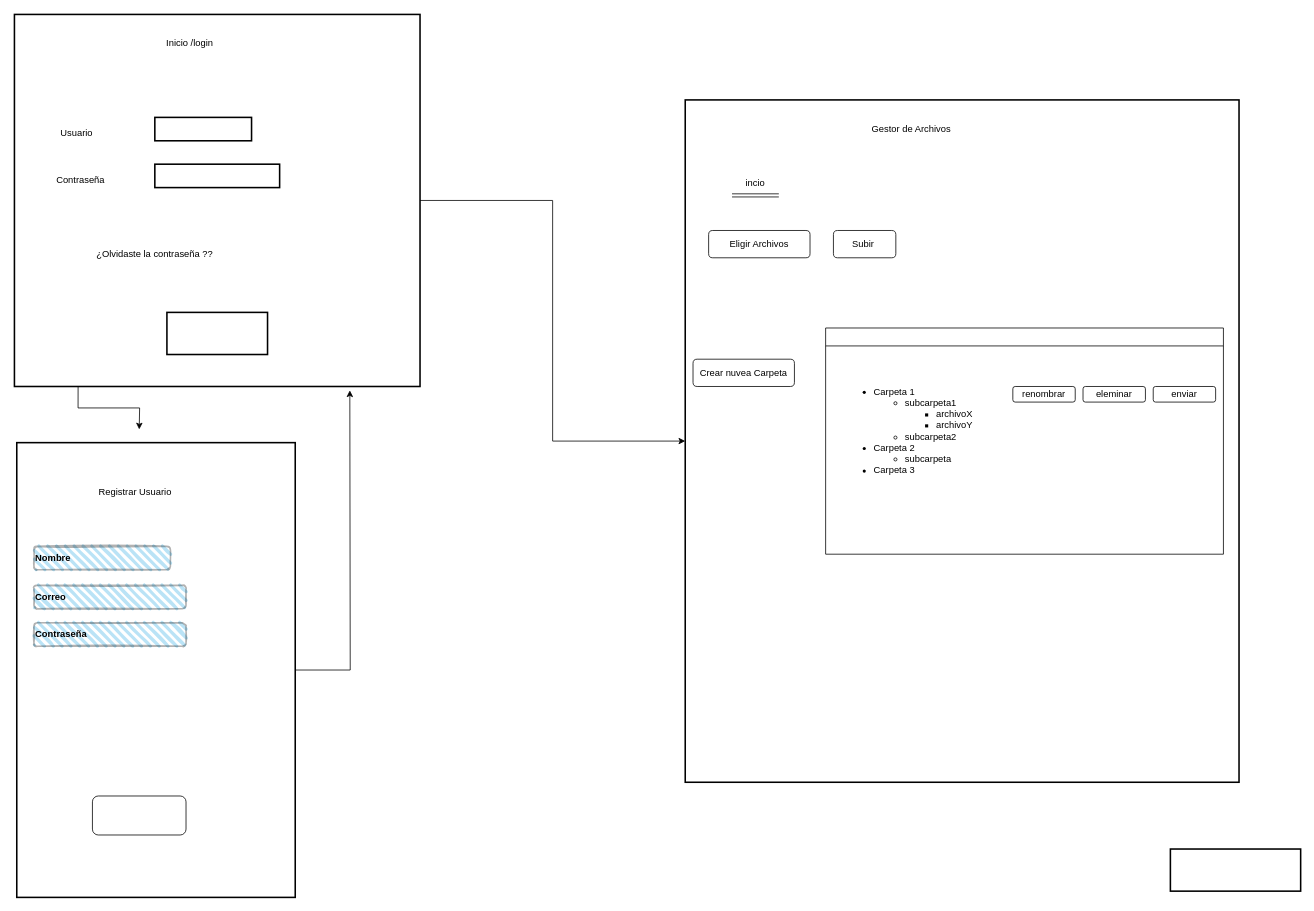
Image size: 1314x911. Some labels were removed from this diagram. Each missing label, with the box of its shape:
Directorio: (825, 327, 1223, 554)
Iniciar Sesion: (166, 311, 268, 355)
Registrar: (92, 795, 186, 835)
Third-party API: (1169, 848, 1301, 892)
